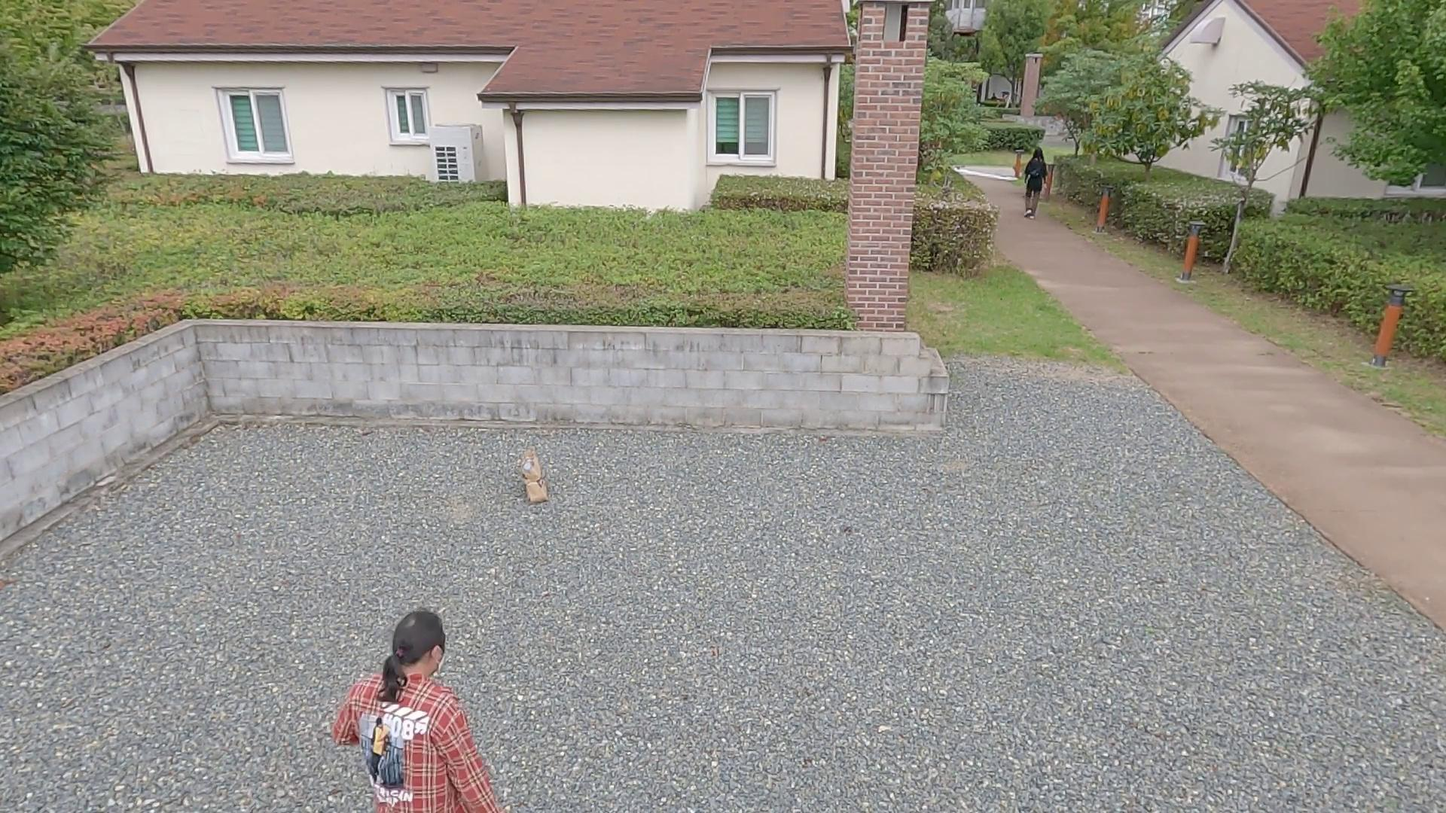person: (331, 605, 507, 813), (1023, 147, 1050, 220)
trash: (521, 446, 543, 481), (524, 476, 549, 502)
